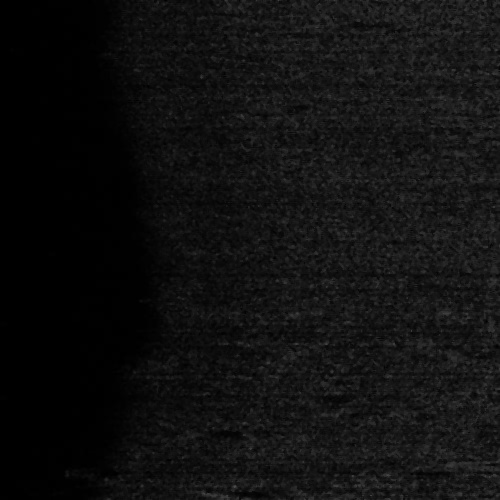object: (432, 458, 495, 463)
shadow: (463, 458, 500, 463)
